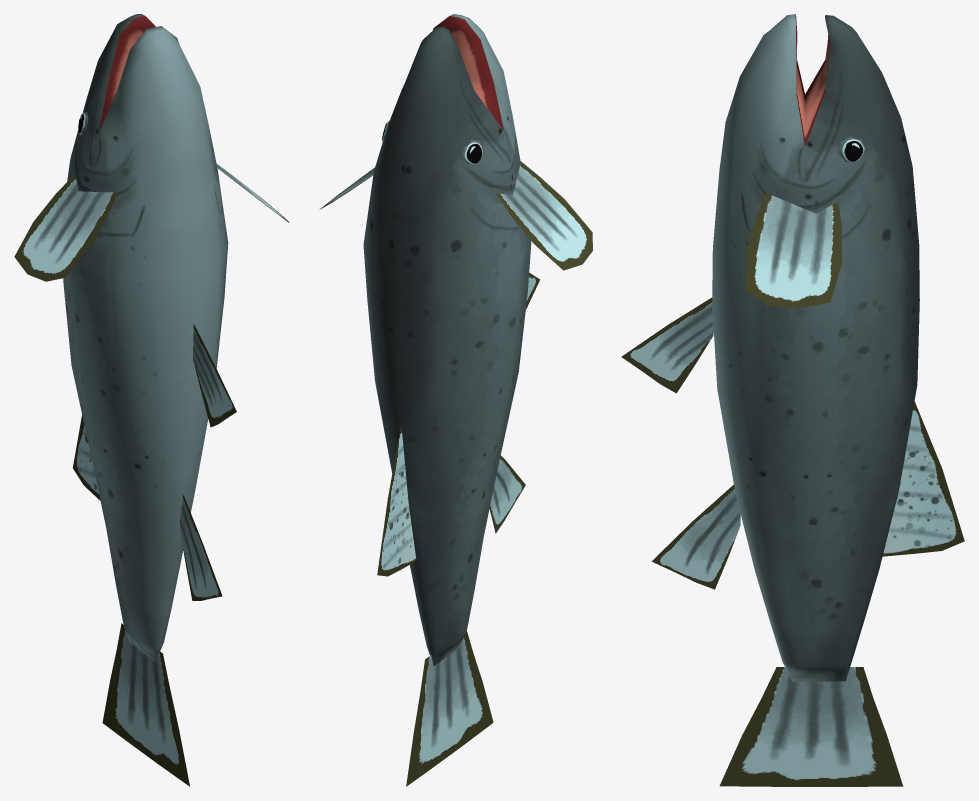
The model's file is SM_Trout_02.FBX.
3 renders of one model, left to right at view 1: azimuth 30°, elevation 25°; view 2: azimuth 150°, elevation 25°; view 3: azimuth 270°, elevation 25°, orthographic. The views are drawn at different scales.
Visible parts, largest first — view 1: SM_Trout_02; view 2: SM_Trout_02; view 3: SM_Trout_02.
Boxes of the visible parts, box(x1,y1,x2,y2) form: SM_Trout_02: box(14, 14, 289, 786); SM_Trout_02: box(319, 14, 592, 786); SM_Trout_02: box(621, 14, 964, 786).
Size of what is drawn, in the model's own units: 14.51 by 16.36 by 40.46.
